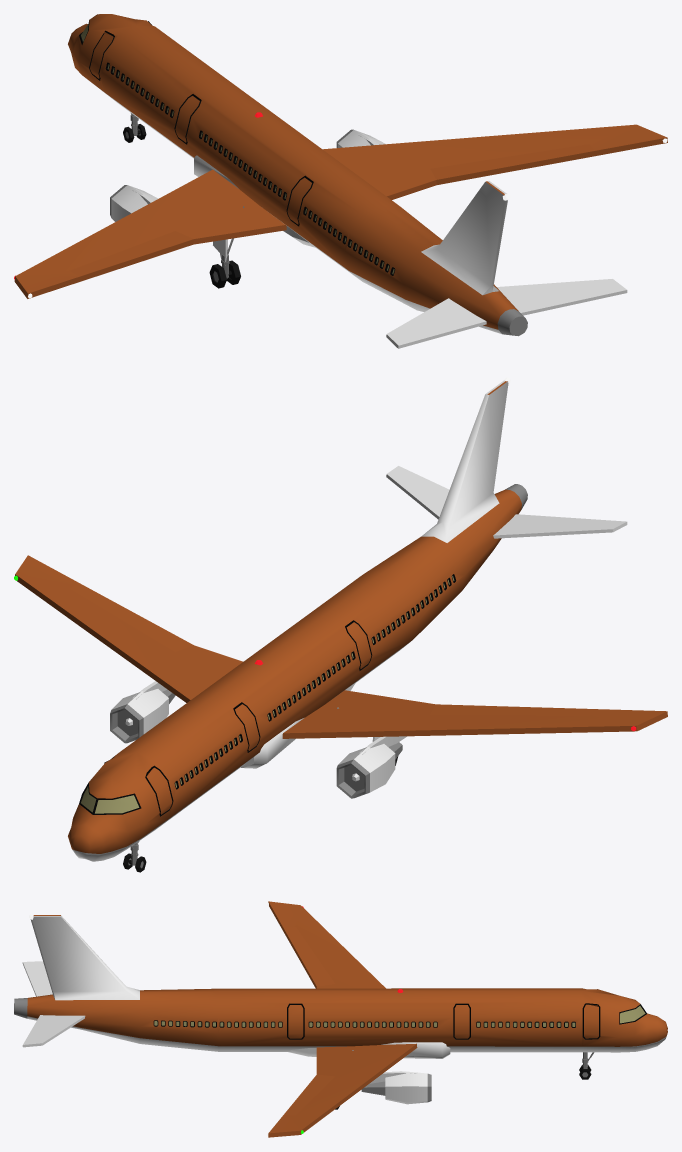
3 views of the same model, one above another, from view 1: azimuth 30°, elevation 25°; view 2: azimuth 150°, elevation 25°; view 3: azimuth 270°, elevation 25° (orthographic). The views are drawn at different scales.
Visible parts, largest first — view 1: Circle; view 2: Circle; view 3: Circle.
Part boxes in pixels (<box>): Circle: <box>14,14,667,348</box>; Circle: <box>14,377,667,872</box>; Circle: <box>14,901,667,1137</box>.
Bounding box in the file's own units: 0.6332 × 0.2076 × 0.753.
